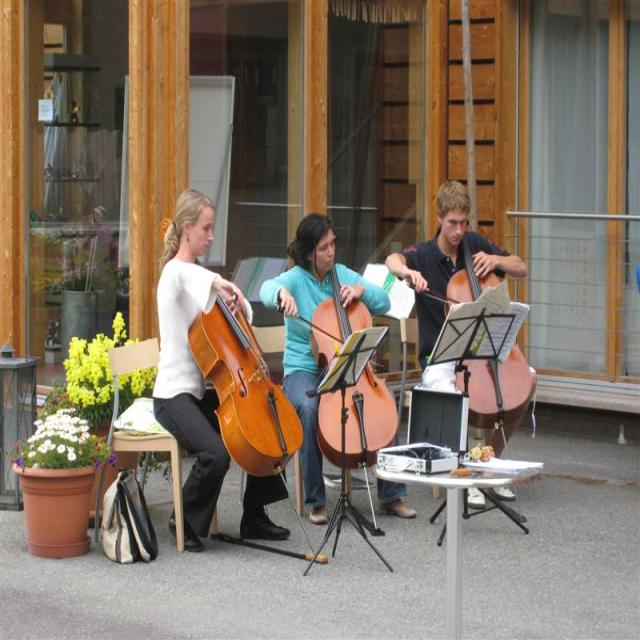cello: (155, 214, 307, 480), (312, 234, 402, 473), (445, 222, 538, 433)
